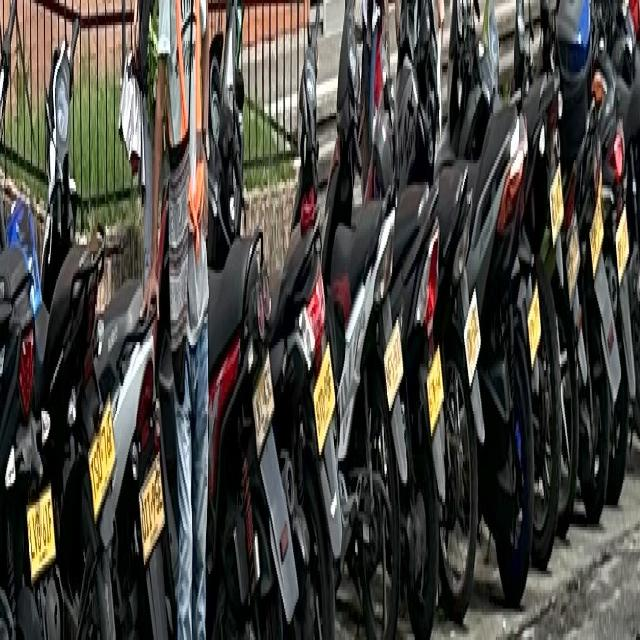number plate: (88, 395, 115, 515), (138, 452, 164, 558), (26, 483, 55, 577), (313, 342, 334, 449), (252, 348, 273, 452), (383, 317, 402, 405), (464, 285, 479, 380), (426, 342, 442, 430), (588, 182, 602, 273), (549, 160, 563, 242), (527, 279, 540, 361), (615, 204, 628, 279)
